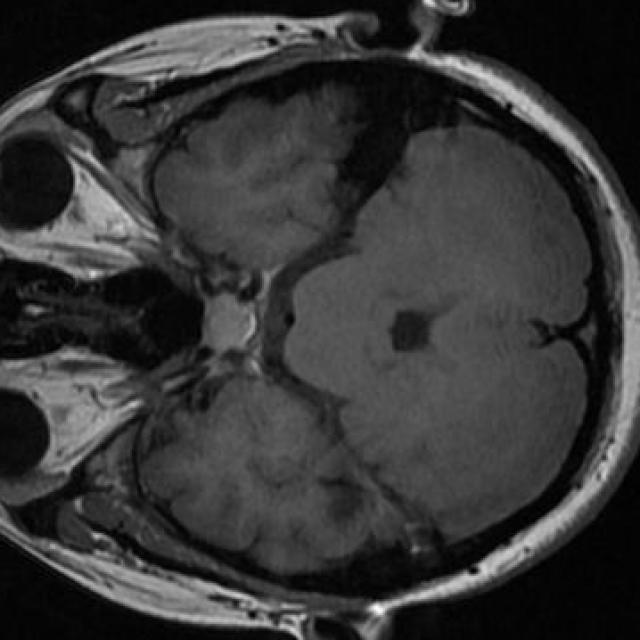pituitary: (205, 296, 257, 353)
